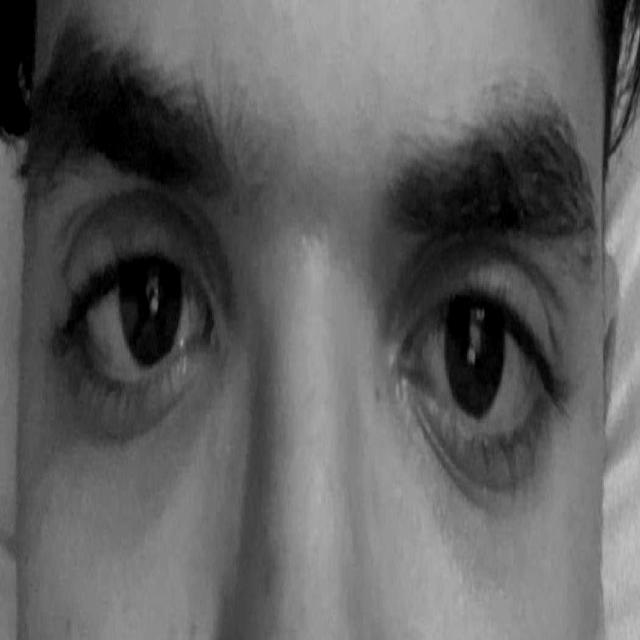real: (48, 60, 582, 538)
